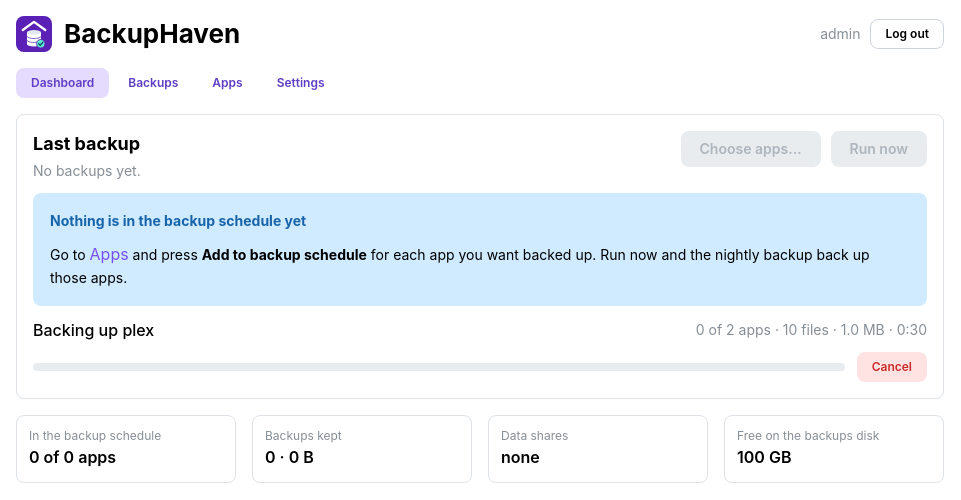
Scenario: cancels a running backup
Click the button "Cancel".
click(892, 367)  # box [857,352,927,382]
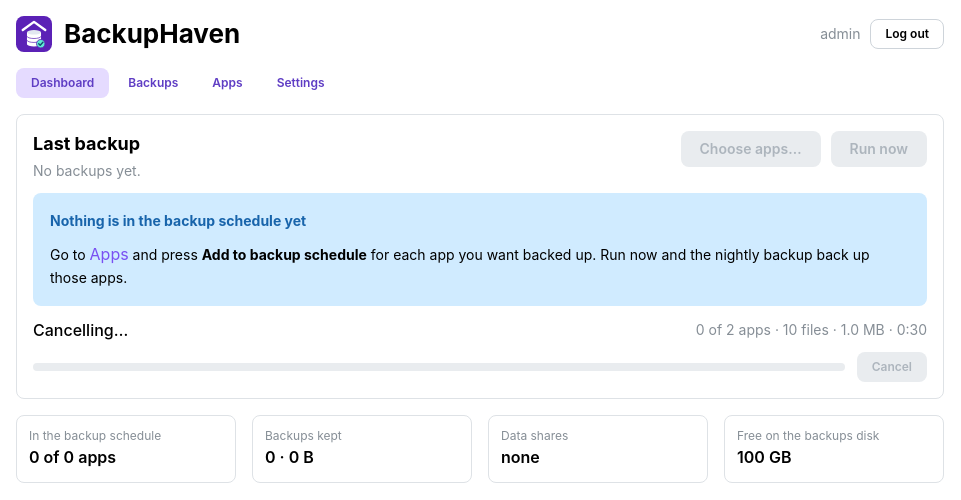
expect the text "Cancelling…" is shown: met, box [33,318,128,342]
expect the button "Cancel" is disabled: met, box [857,352,927,382]
